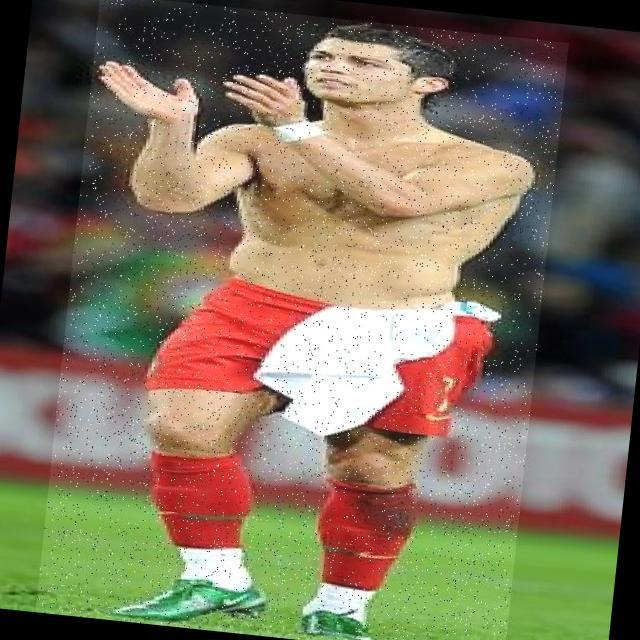Person: (84, 0, 563, 640)
Safety Boot: (98, 574, 282, 622), (294, 595, 380, 640)
bare-arms: (85, 43, 199, 127), (215, 64, 314, 130)
no-helmet: (326, 16, 457, 85)
no-vest: (201, 108, 543, 305)
